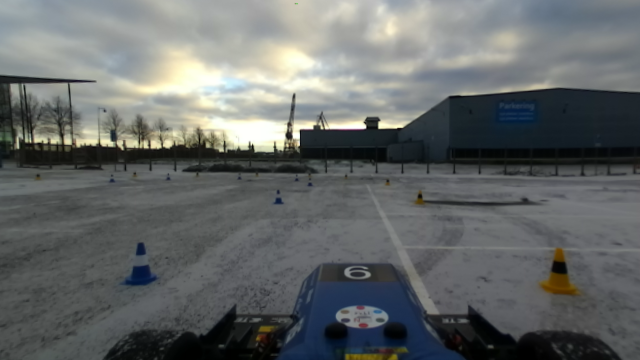blue: (536, 244, 580, 297), (120, 240, 159, 290)
